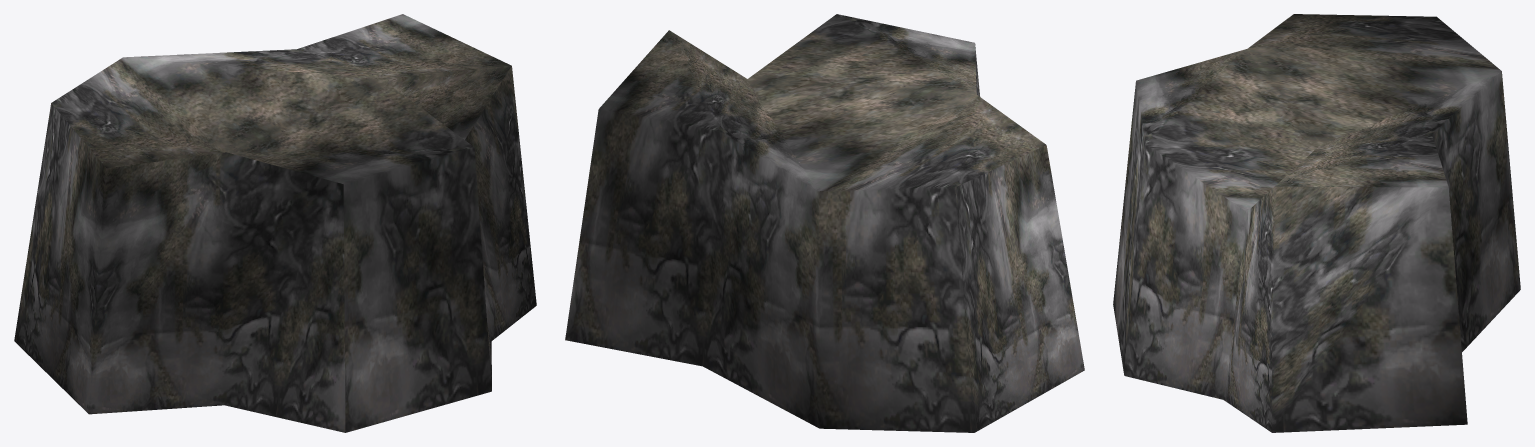
File: duskwoodruinsfoundation02.obj
3 views of the same model, side by side, from view 1: azimuth 30°, elevation 25°; view 2: azimuth 150°, elevation 25°; view 3: azimuth 270°, elevation 25° (orthographic). The views are drawn at different scales.
Parts seen in each view (by area): view 1: DUSKWOODRUINSFOUNDATION020; view 2: DUSKWOODRUINSFOUNDATION020; view 3: DUSKWOODRUINSFOUNDATION020.
Boxes of the visible parts, x1,y1,x2,y2 form: DUSKWOODRUINSFOUNDATION020: (14,14,536,432); DUSKWOODRUINSFOUNDATION020: (565,14,1084,432); DUSKWOODRUINSFOUNDATION020: (1113,14,1520,432).
Size of the model in its own units: 8.05 by 4.21 by 6.61.
Materials: 1 (1 with a texture image).
